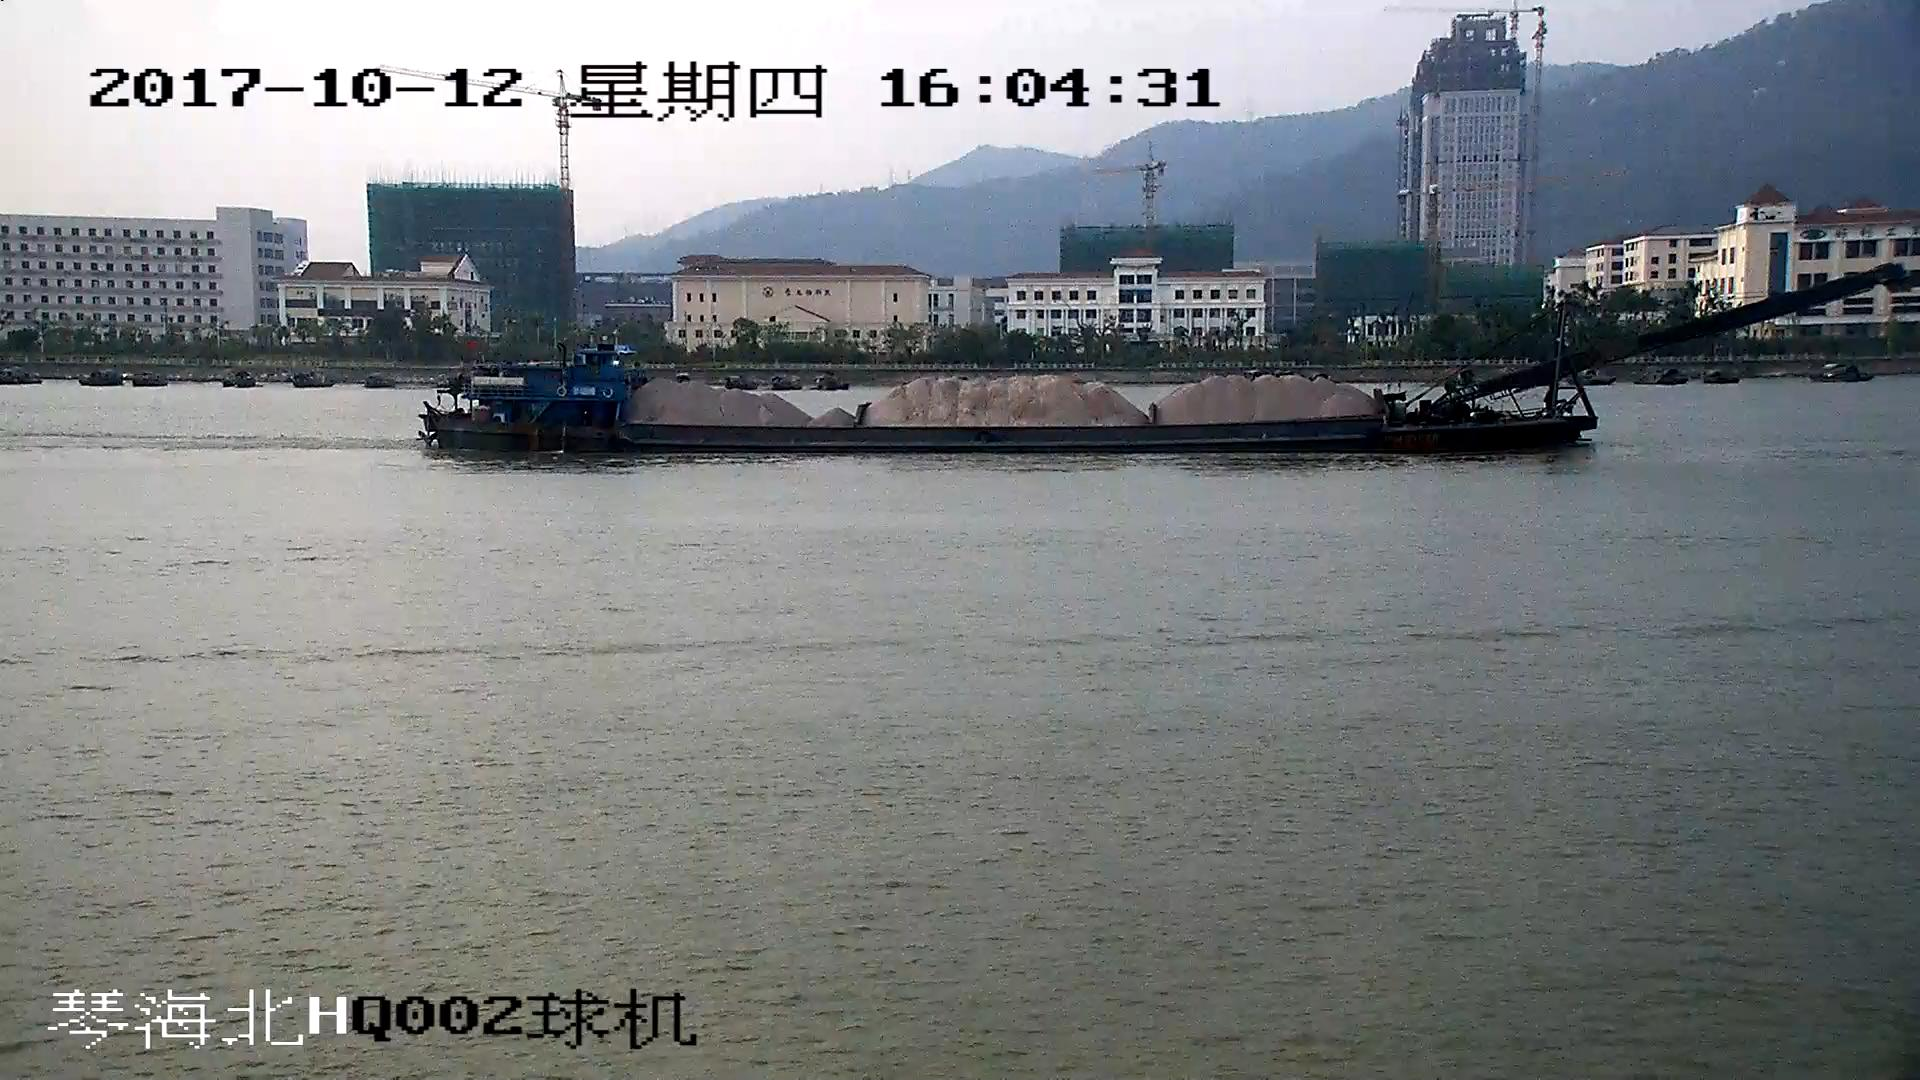ore carrier: (421, 264, 1891, 458)
